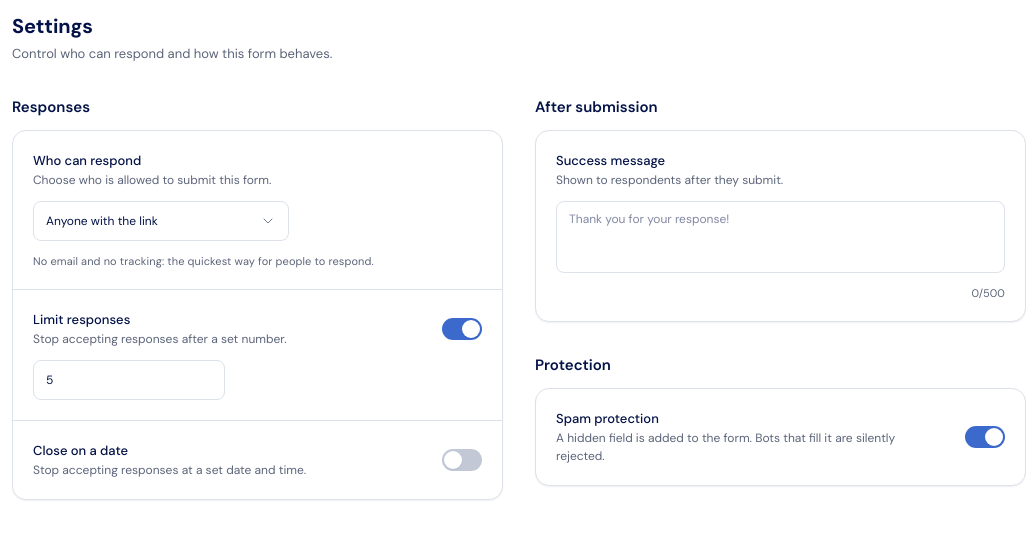
Test: SettingsPanel: response limit › rejects 0 with an inline error and does not save
The width and height of the screenshot is (1036, 544).
Replace the text in the number field with "0" at (129, 380), box x1=33 y1=360 x2=225 y2=400
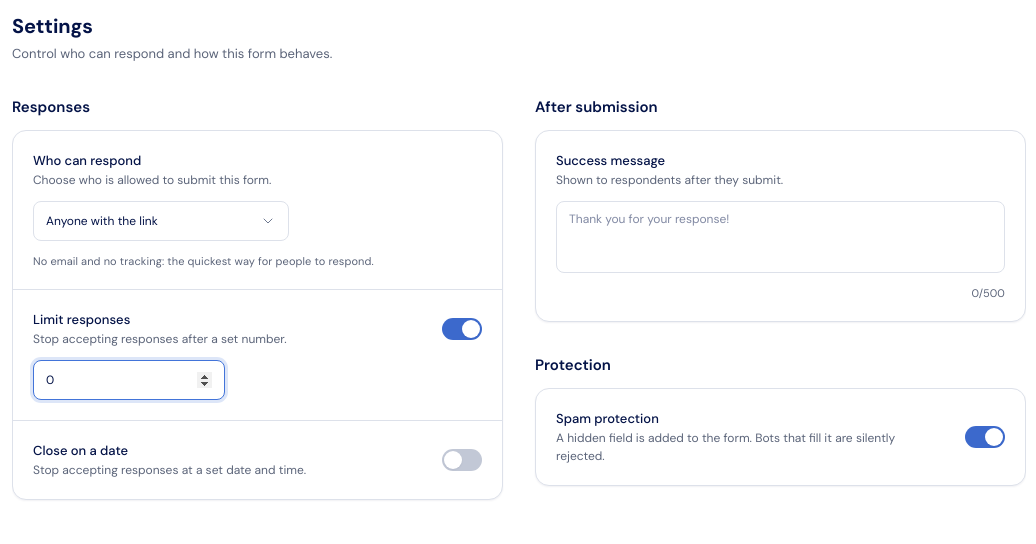
Press Tab
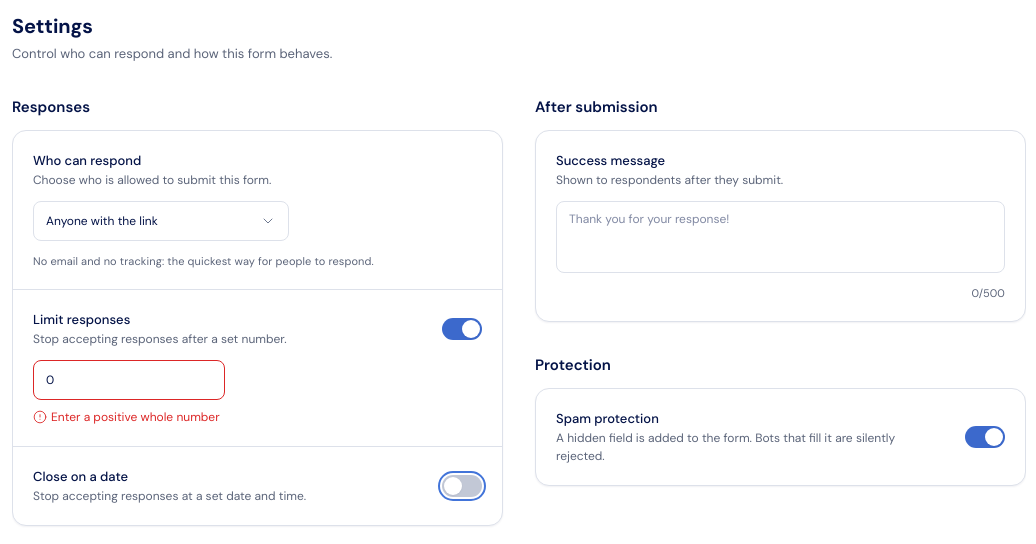
expect the text "Enter a positive whole number" is shown: met, box x1=33 y1=408 x2=225 y2=426
